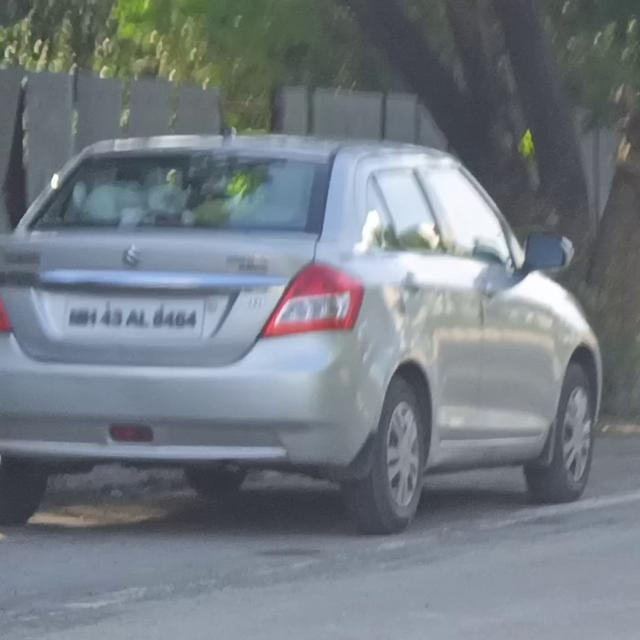Plate: (65, 295, 206, 335)
